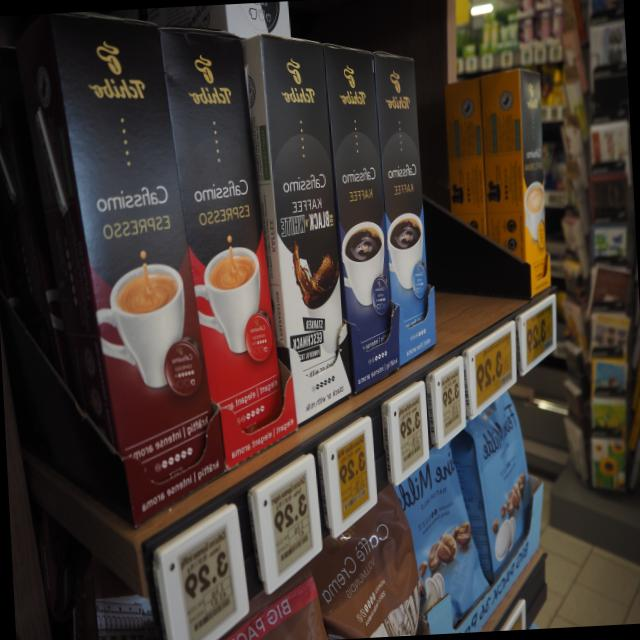Empty Shelf: (419, 71, 510, 340)
FM 36 Pads: (395, 441, 494, 634), (450, 382, 540, 587)
Simo CCMild bigpack: (518, 65, 550, 293)
Simo Es Elegant: (157, 24, 293, 471)
Simo Es Kraft: (48, 15, 223, 531)
Simo Kaffee BW: (257, 33, 349, 429)
Simo Kaffee Kraft: (325, 44, 398, 397)
Simo Kaffee Mild: (370, 45, 436, 369)
